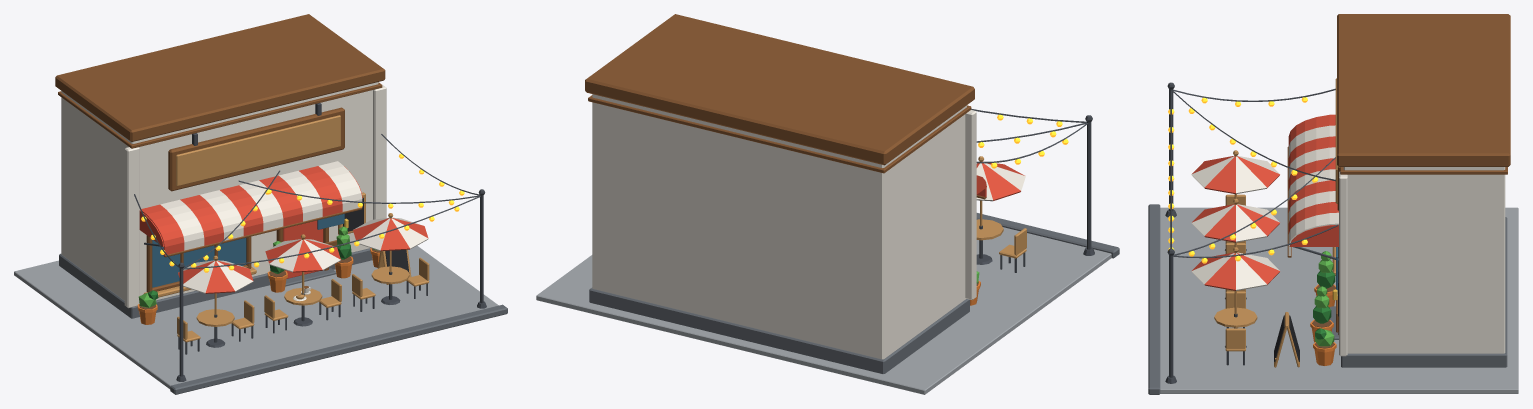
Rendered from low-poly-city-cafe.glb.
The picture shows the model from 3 angles, left to right: view 1: azimuth 30°, elevation 25°; view 2: azimuth 150°, elevation 25°; view 3: azimuth 270°, elevation 25°; orthographic projection. The views are drawn at different scales.
Parts seen in each view (by area): view 1: Pavement, Cornice, Building, Awning_Red, Sign_Board, Awning_Cream, Curb, Pilaster_0, Sign_Frame, Plinth, Window_Glass, Umbrella3_Canopy (+13 smaller); view 2: Building, Cornice, Pavement, Plinth, Pilaster_0, Cornice_Band, Umbrella1_Canopy, Curb, LightPole0; view 3: Building, Pavement, Cornice, Awning_Red, Plinth, Awning_Cream, Umbrella1_Canopy, Curb, Umbrella2_Canopy, Umbrella3_Canopy, Pilaster_1, Cornice_Band (+9 smaller).
Part boxes in pixels (<box>): Pavement: <box>14,245,498,389</box>; Cornice: <box>55,14,385,141</box>; Building: <box>61,82,378,300</box>; Awning_Red: <box>139,166,362,255</box>; Sign_Board: <box>176,115,340,186</box>; Awning_Cream: <box>160,161,362,250</box>; Curb: <box>170,304,507,394</box>; Pilaster_0: <box>124,147,139,308</box>; Sign_Frame: <box>168,107,344,191</box>; Plinth: <box>59,248,372,318</box>; Window_Glass: <box>152,238,246,287</box>; Umbrella3_Canopy: <box>353,217,428,251</box>; Building: <box>592,94,966,359</box>; Cornice: <box>585,14,974,165</box>; Pavement: <box>536,227,1111,394</box>; Plinth: <box>589,287,969,373</box>; Pilaster_0: <box>965,110,976,299</box>; Cornice_Band: <box>588,95,971,173</box>; Umbrella1_Canopy: <box>976,161,1025,201</box>; Curb: <box>976,213,1119,258</box>; LightPole0: <box>1087,122,1091,249</box>; Building: <box>1343,167,1505,353</box>; Pavement: <box>1160,207,1518,393</box>; Cornice: <box>1337,14,1510,166</box>; Awning_Red: <box>1288,114,1338,246</box>; Plinth: <box>1341,217,1507,367</box>; Awning_Cream: <box>1288,125,1338,255</box>; Umbrella1_Canopy: <box>1191,155,1279,194</box>; Curb: <box>1148,204,1160,394</box>; Umbrella2_Canopy: <box>1191,204,1279,242</box>; Umbrella3_Canopy: <box>1191,252,1279,290</box>; Pilaster_1: <box>1339,171,1347,356</box>; Cornice_Band: <box>1340,167,1507,174</box>.
Size of the model in its own units: 32.4 by 18 by 27.5.
